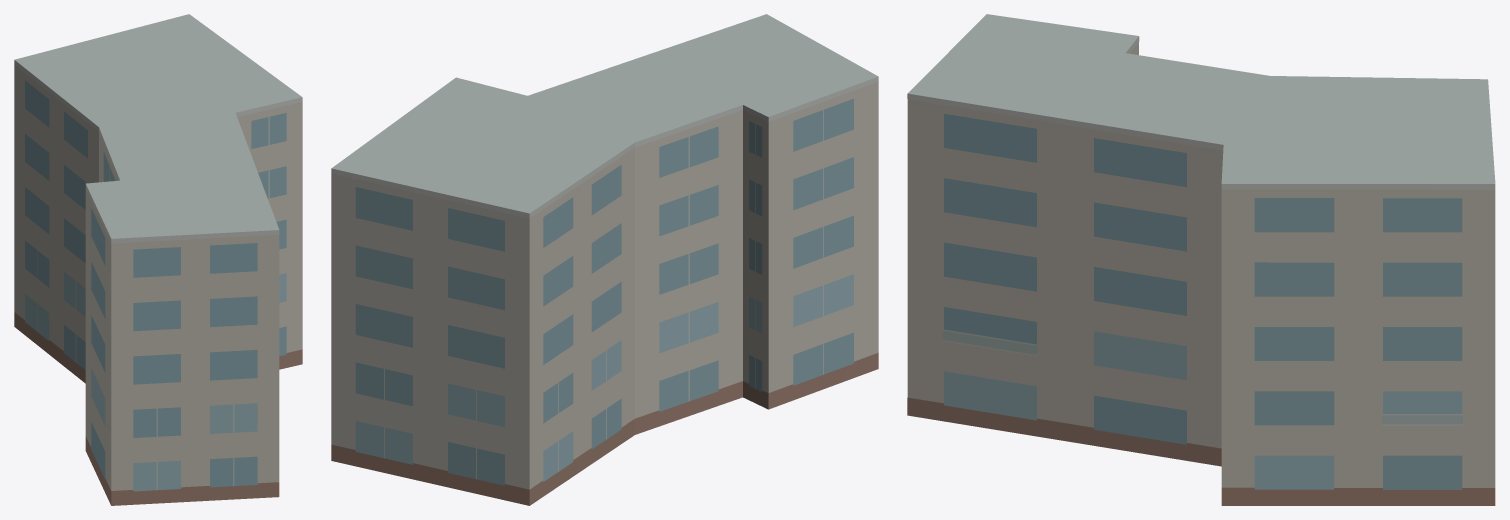
Rendered from survey-upis-32983470.glb.
The picture shows the model from 3 angles, left to right: view 1: azimuth 30°, elevation 25°; view 2: azimuth 150°, elevation 25°; view 3: azimuth 270°, elevation 25°; orthographic projection. The views are drawn at different scales.
Parts seen in each view (by area): view 1: survey-upis-32983470.tmp; view 2: survey-upis-32983470.tmp; view 3: survey-upis-32983470.tmp.
Part boxes in pixels (x1=…): survey-upis-32983470.tmp: x1=14, y1=14, x2=302, y2=505; survey-upis-32983470.tmp: x1=331, y1=14, x2=878, y2=505; survey-upis-32983470.tmp: x1=907, y1=14, x2=1495, y2=505.
Size of the model in its own units: 16 by 14.1 by 23.35.
